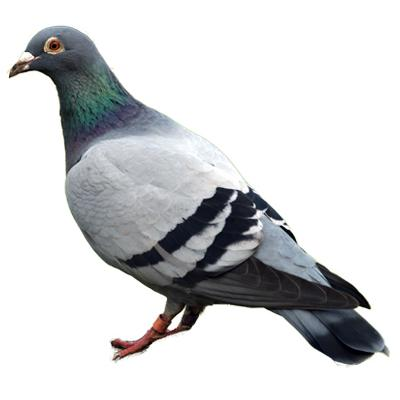Flying Rat: (5, 22, 397, 370)
